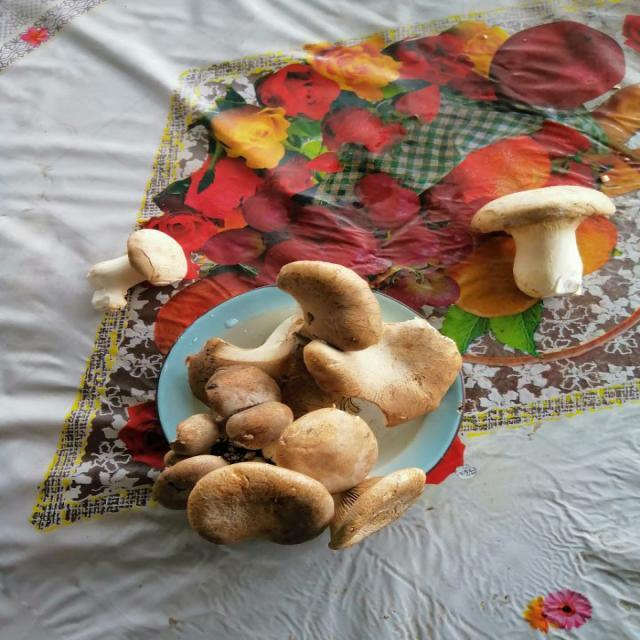Pleurotus cystidiosus: (159, 261, 460, 548), (475, 186, 617, 297), (84, 228, 184, 312)
